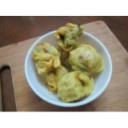bonda: (54, 77, 92, 102), (69, 45, 104, 72), (32, 44, 61, 73)
